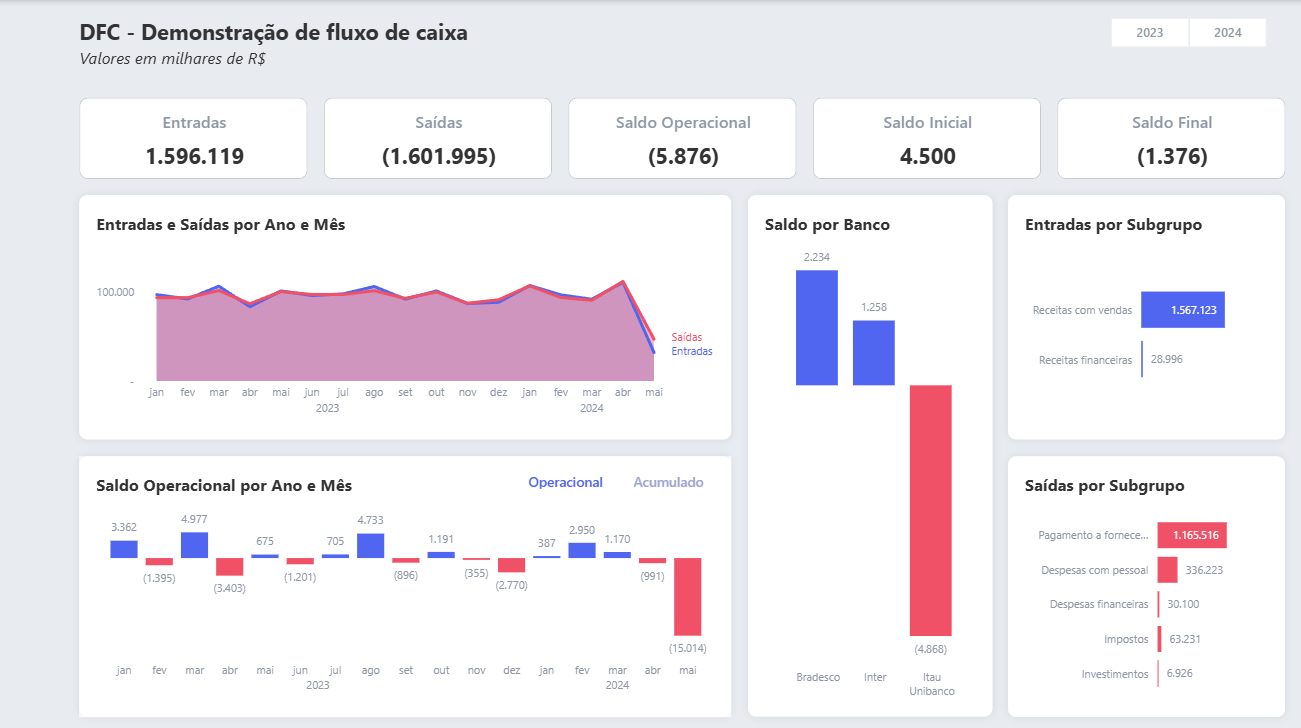

Layout of this report page (visuals, bound fields, positions):
{"tool":"powerbi","page":{"name":"DFC","canvas":[1280,720],"ordinal":0},"visuals":[{"type":"textbox","box":[64,0,448,96],"z":0},{"type":"slicer","fields":{"Values":["dCalendario.Ano"]},"box":[1056.4,0,223.3,63.8],"z":1000},{"type":"clusteredColumnChart","fields":{"Category":["dCalendario.Ano","dCalendario.MesAbrev"],"Y":["Medidas.Saldo Operacional"]},"box":[79.8,447.9,640,256],"z":1000,"group":"g1"},{"type":"cardVisual","fields":{"Data":["Medidas.Entradas","Medidas.Saídas","Medidas.Saldo Operacional","Medidas.Saldo Inicial","Medidas.Saldo Final"]},"box":[64,80,1216,112],"z":2000},{"type":"areaChart","fields":{"Category":["dCalendario.Ano","dCalendario.MesAbrev"],"Y":["Medidas.Entradas","Medidas.Saídas Abs"]},"box":[80,192,640,240],"z":3000},{"type":"clusteredColumnChart","fields":{"Y":["Medidas.Saldo Final"],"Category":["dBancos.Banco"]},"box":[736,192,240,512],"z":4000},{"type":"group","id":"g1","title":"Grupo 1","box":[79.8,447.9,640.5,256.4],"z":5000},{"type":"bookmarkNavigator","box":[496,448,224,48],"z":6000},{"type":"clusteredBarChart","fields":{"Category":["dContas.Subgrupo","dContas.Conta"],"Y":["Medidas.Entradas"]},"box":[992,192,272,240],"z":7000},{"type":"clusteredBarChart","fields":{"Category":["dContas.Subgrupo","dContas.Conta"],"Y":["Medidas.Saídas Abs"]},"box":[992,448,272,256],"z":8000},{"type":"actionButton","box":[0,128,64,64],"z":9000}]}

Visuals, with their boxes in screenshot pixels (x1, y1, x2, y2), scaled from the page's 1280x720 canvas onto the 1301x728 screenshot:
textbox: l=65, t=0, r=520, b=97
slicer - dCalendario.Ano: l=1074, t=0, r=1300, b=65
clusteredColumnChart - dCalendario.Ano x dCalendario.MesAbrev: l=81, t=453, r=732, b=712
cardVisual - Medidas.Entradas x Medidas.Saídas: l=65, t=81, r=1300, b=194
areaChart - dCalendario.Ano x dCalendario.MesAbrev: l=81, t=194, r=732, b=437
clusteredColumnChart - Medidas.Saldo Final x dBancos.Banco: l=748, t=194, r=992, b=712
"Grupo 1" group: l=81, t=453, r=732, b=712
bookmarkNavigator: l=504, t=453, r=732, b=502
clusteredBarChart - dContas.Subgrupo x dContas.Conta: l=1008, t=194, r=1285, b=437
clusteredBarChart - dContas.Subgrupo x dContas.Conta: l=1008, t=453, r=1285, b=712
actionButton: l=0, t=129, r=65, b=194
